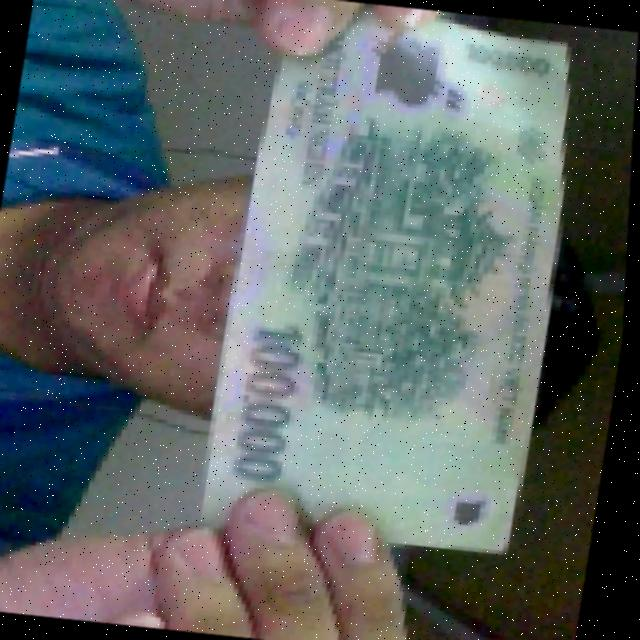100 000 VND: (196, 0, 608, 567)
